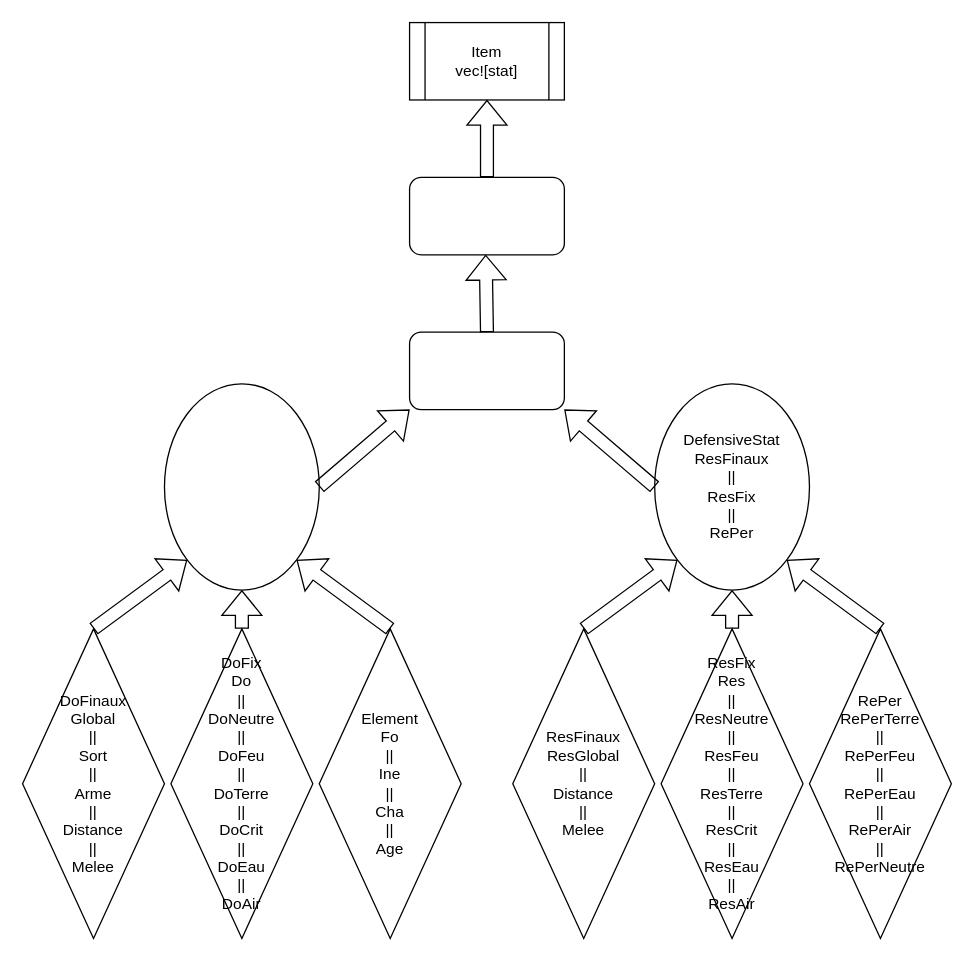
Some shapes in this 974 by 961 pixel diagram are drawn without their labels. The centre of each missing label's shape, as x and y in pixels:
"OffesiveStat DoFinaux || DoFix || Element" goes at [241,486].
"Stat baseStat,i32" goes at [486,215].
"Stat OffensiveStat,i32 || Defensive stat,i32" goes at [486,370].
